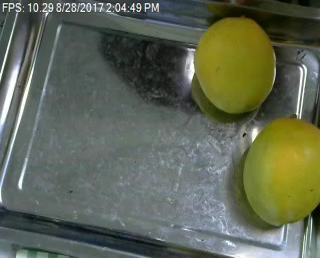Mango: (190, 12, 284, 117), (238, 115, 320, 231)
